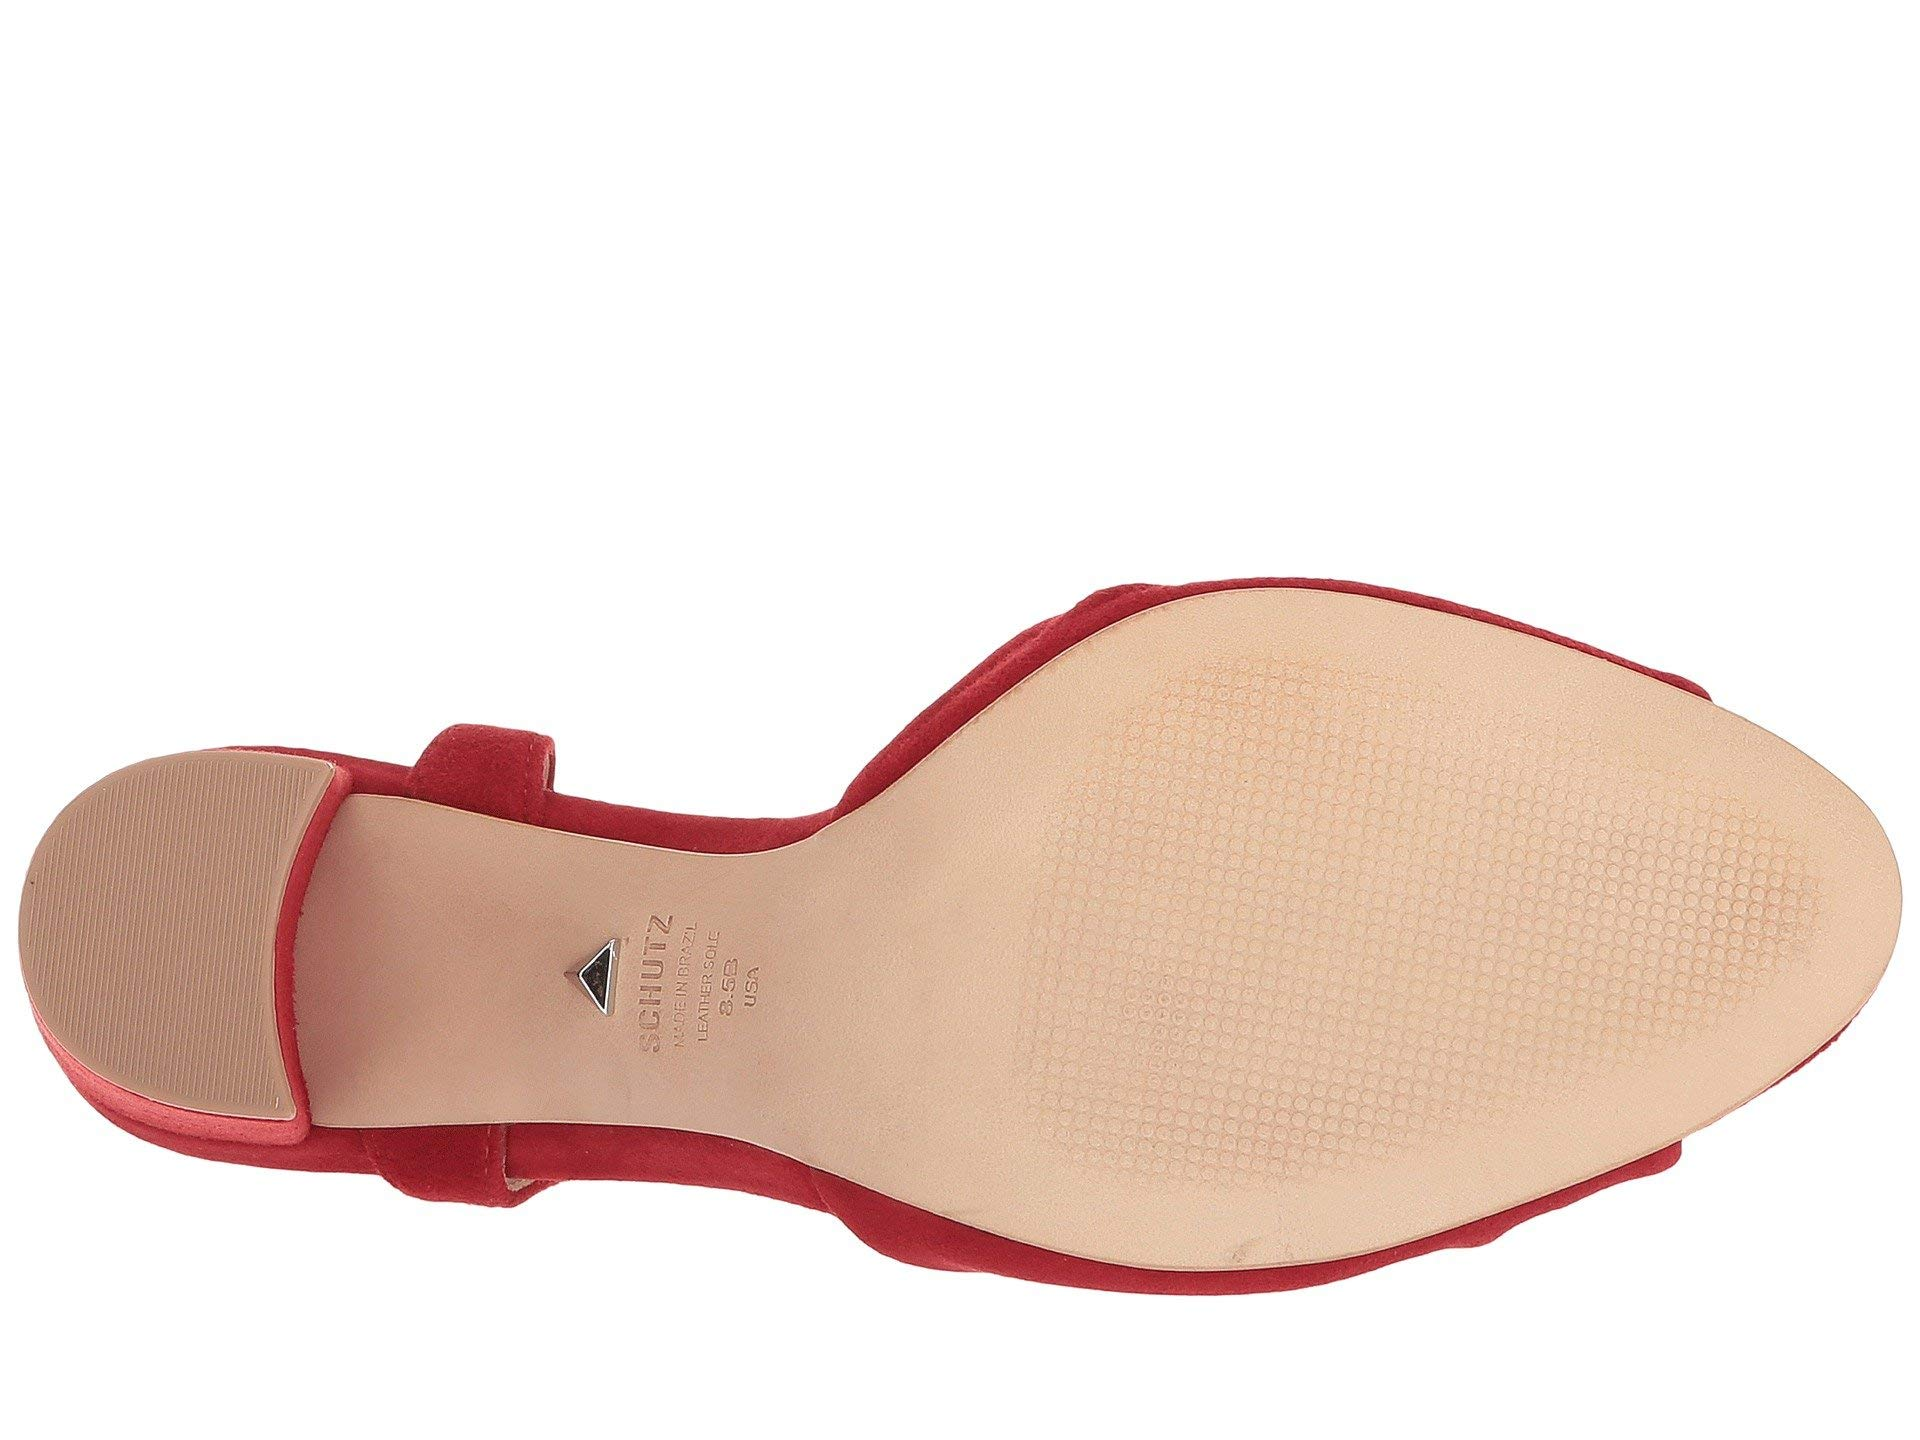line: (103, 818, 239, 1023)
quad: (1107, 700, 1652, 1068), (493, 843, 856, 1097)
text: (493, 843, 856, 1097)
